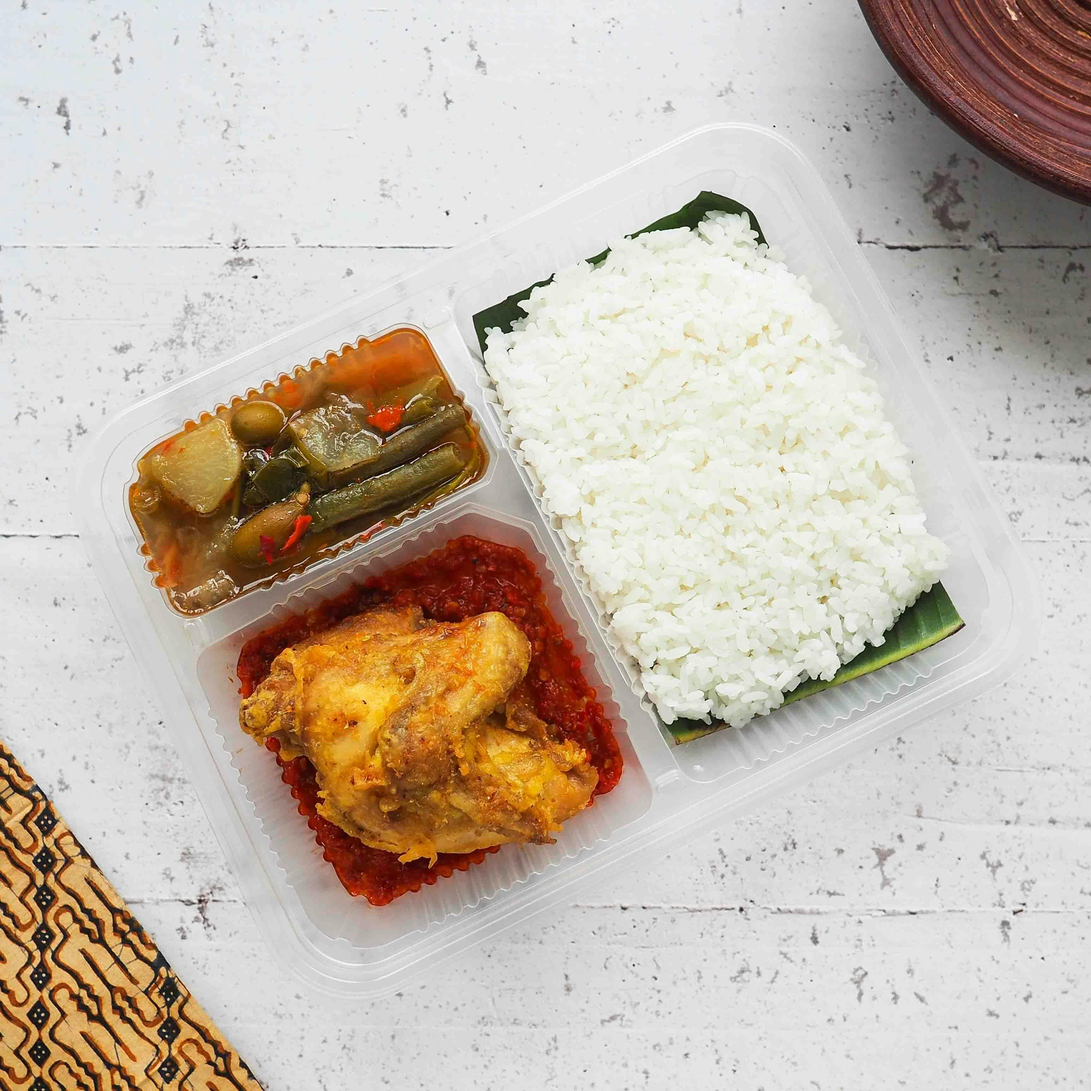buah_sayur_lainnya: (170, 431, 416, 538)
daging: (290, 666, 560, 807)
makanan_berpati: (575, 361, 879, 545)
